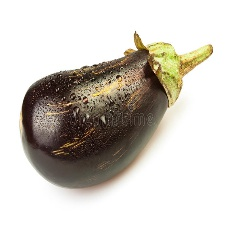eggplant: (17, 46, 182, 186)
